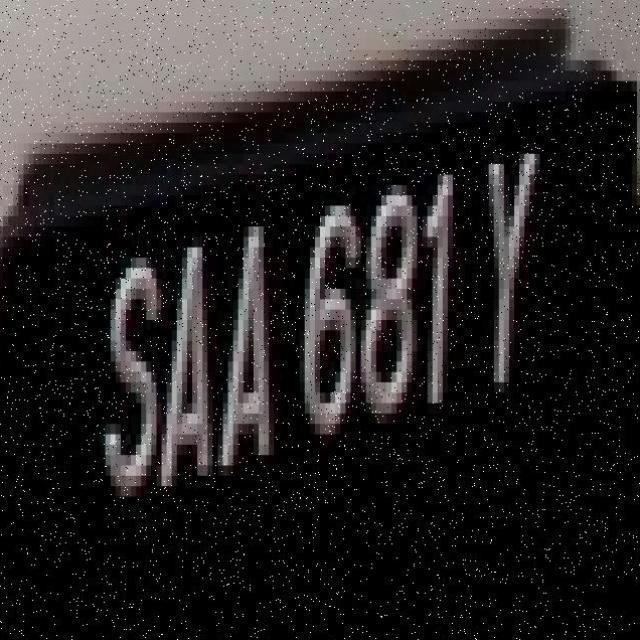License Plate: (61, 134, 552, 526)
